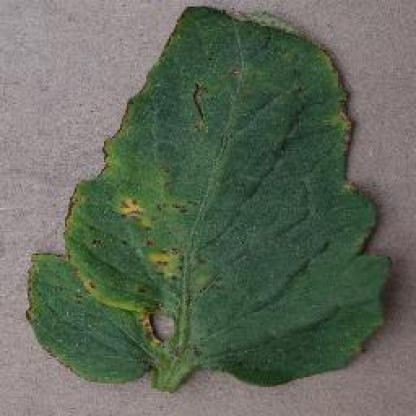bad leaf: (19, 15, 406, 398)
